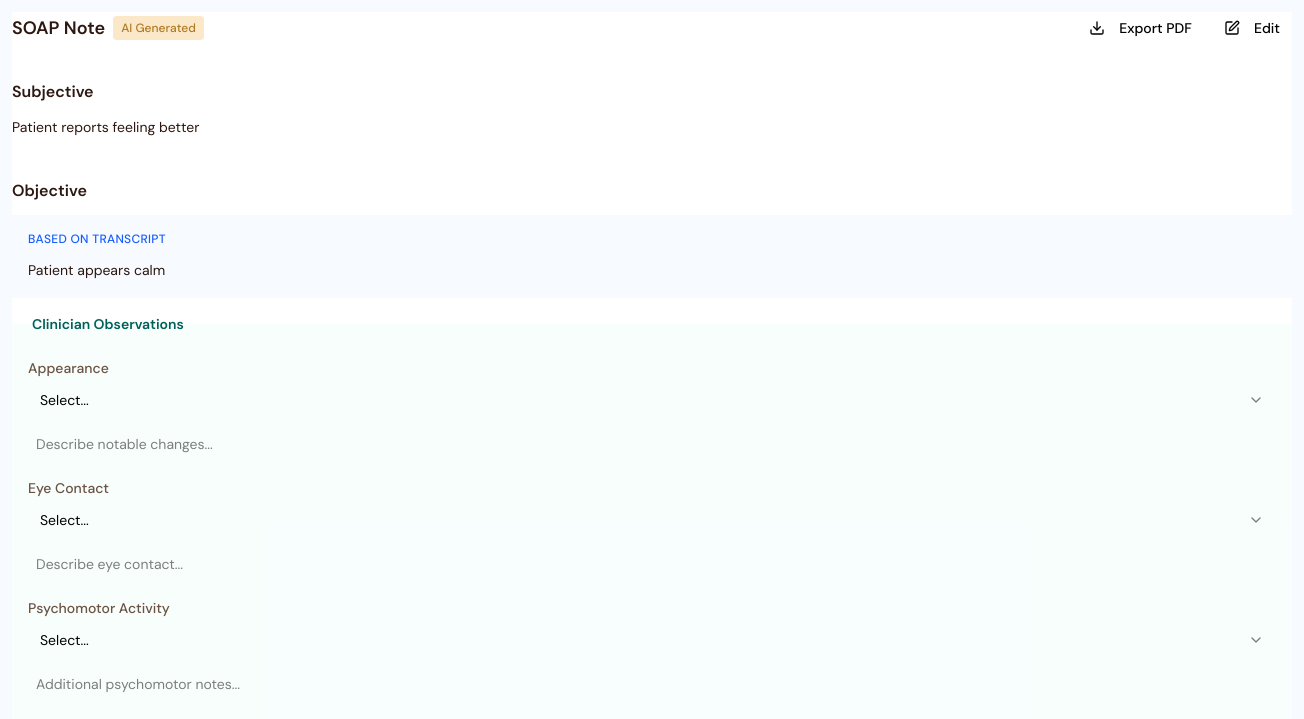
Scenario: NoteViewer (SOAP) › Sub-Field Editing › populates plain text into catch-all sub-field
What coordinates should you click on to do the following:
click the button "Edit"
I would click on:
 (1252, 28)
Its box is [1212, 12, 1292, 44].
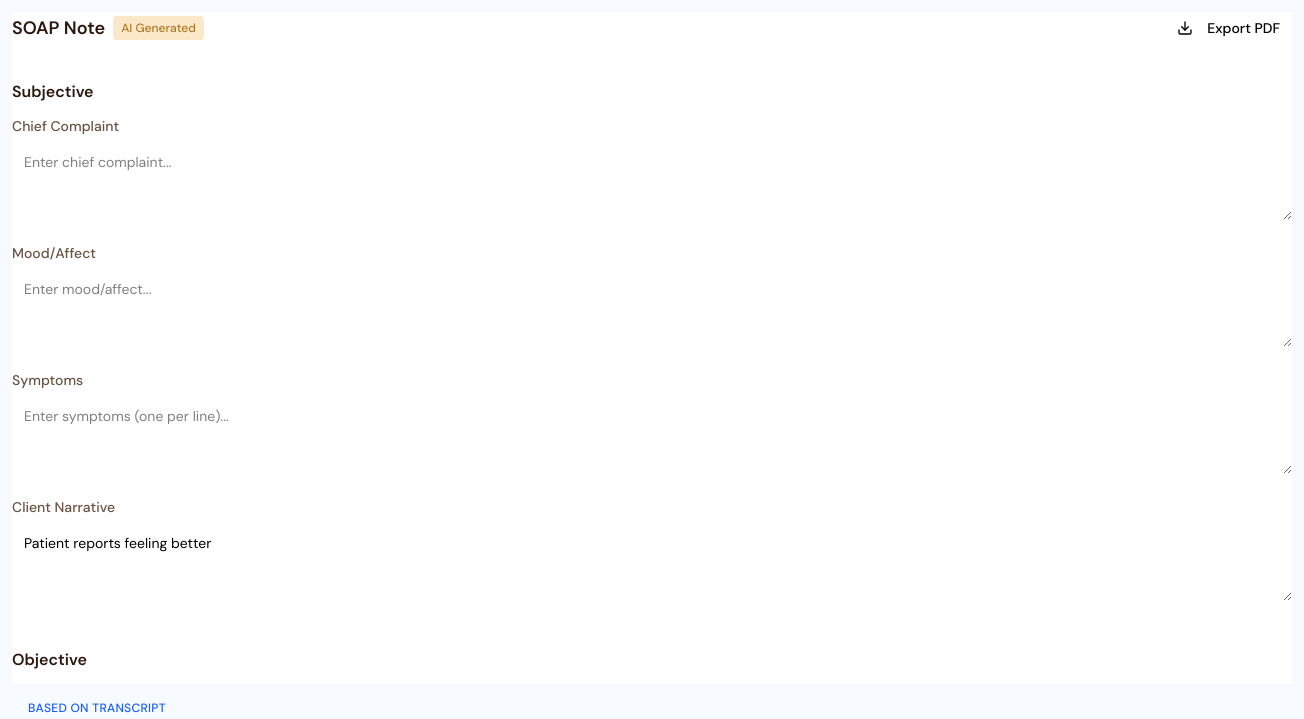
Expected: the text box labelled "Client Narrative" holds "Patient reports feeling better", [12, 521, 1292, 601]
